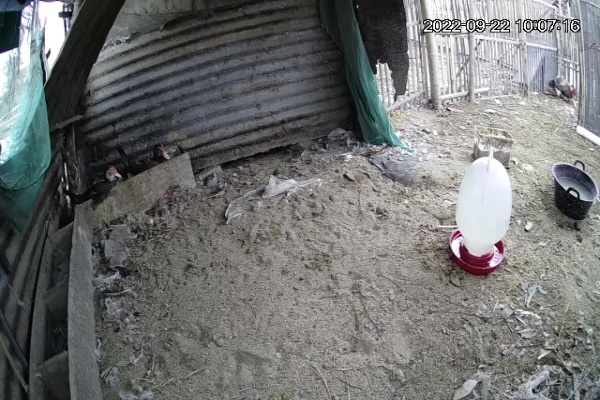Kawin: (538, 65, 581, 112)
